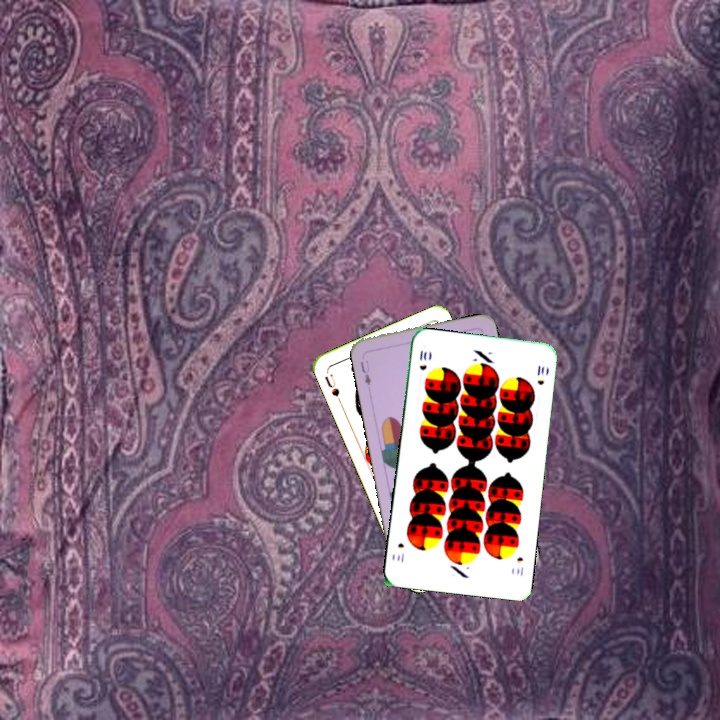EU: (357, 356, 374, 388)
S10: (415, 346, 430, 373), (512, 553, 526, 579)
SU: (321, 367, 344, 406)
